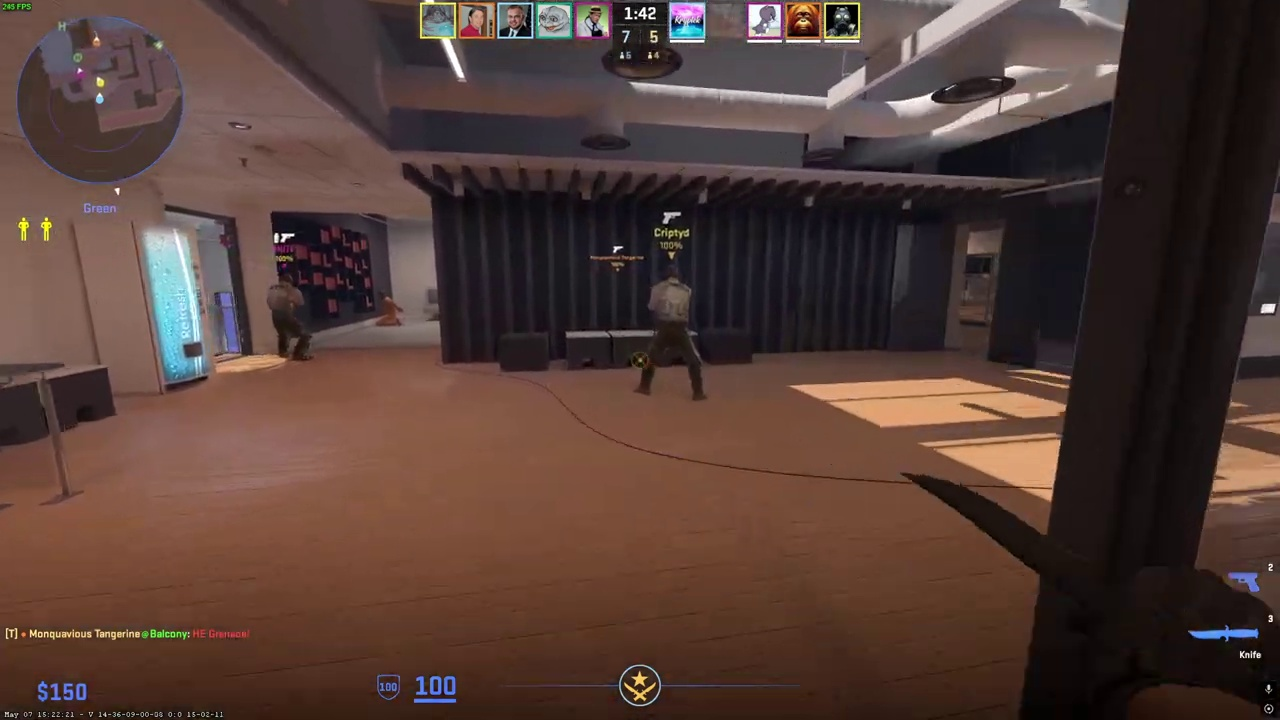Terrorist: (637, 264, 708, 401), (269, 274, 311, 361)
